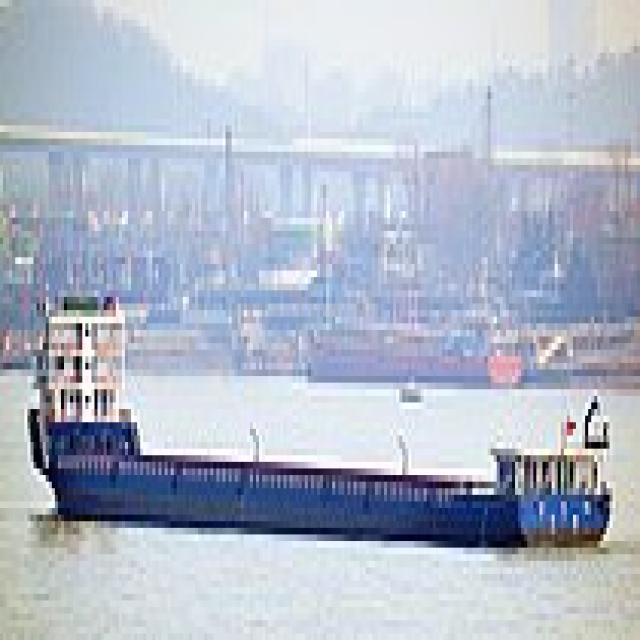Cargo: (21, 264, 612, 541)
